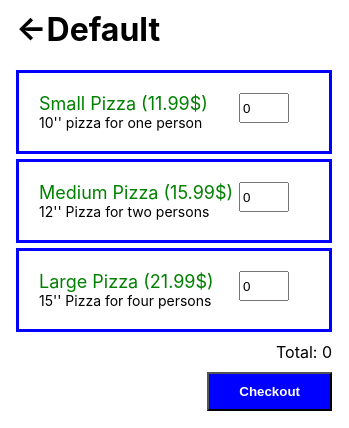
Test: Checkout page › Default customer checkout
Type "1" into the number field with id "Small Pizza" at [264, 108], box [239, 93, 289, 123]
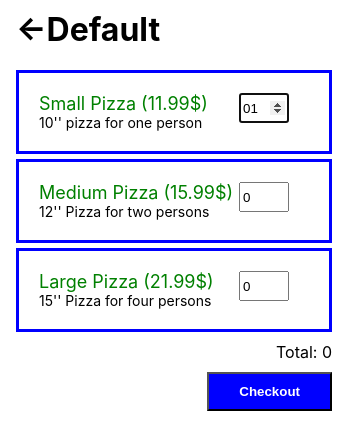
Type "1" into the number field with id "Medium Pizza" at [264, 197], box [239, 182, 289, 212]
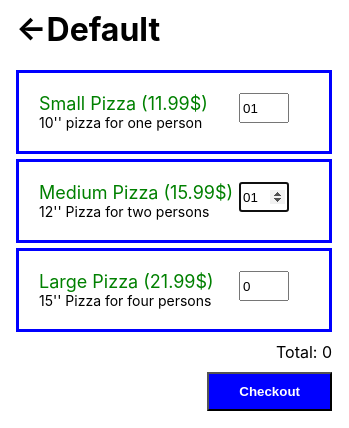
Type "1" into the number field with id "Large Pizza" at [264, 286], box [239, 271, 289, 301]
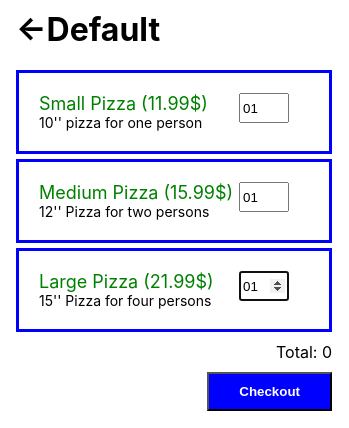
Click the button with test id "checkout-button" at [270, 392], box [207, 372, 332, 411]
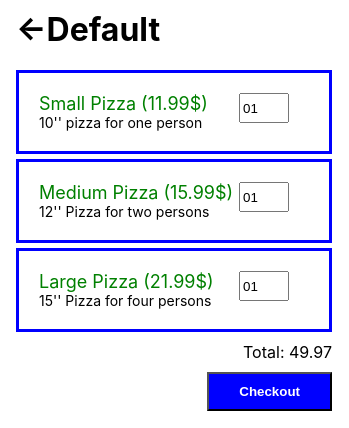
Result: the text with test id "total-amount" reads "49.97" at [289, 342, 332, 362]
